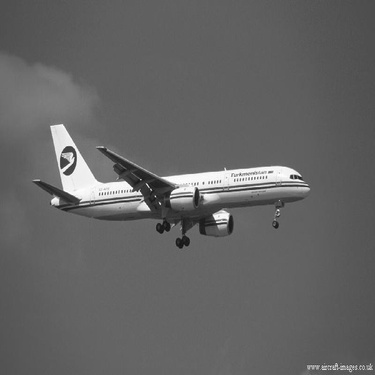airplane: (9, 113, 325, 258)
